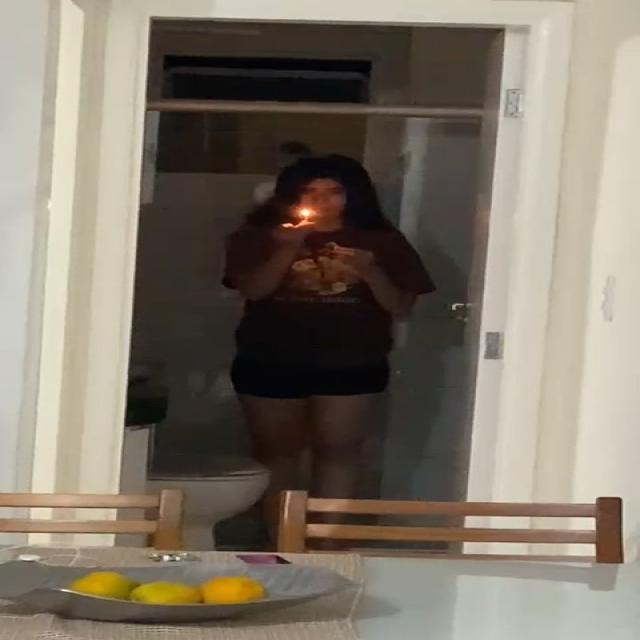fogo-ypXI: (298, 207, 312, 218)
